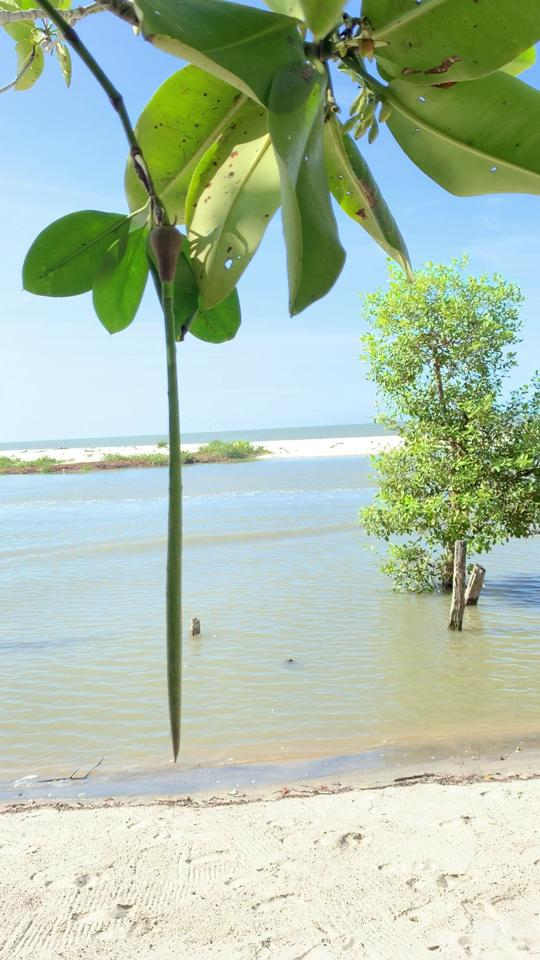setengah matang: (144, 208, 198, 773)
